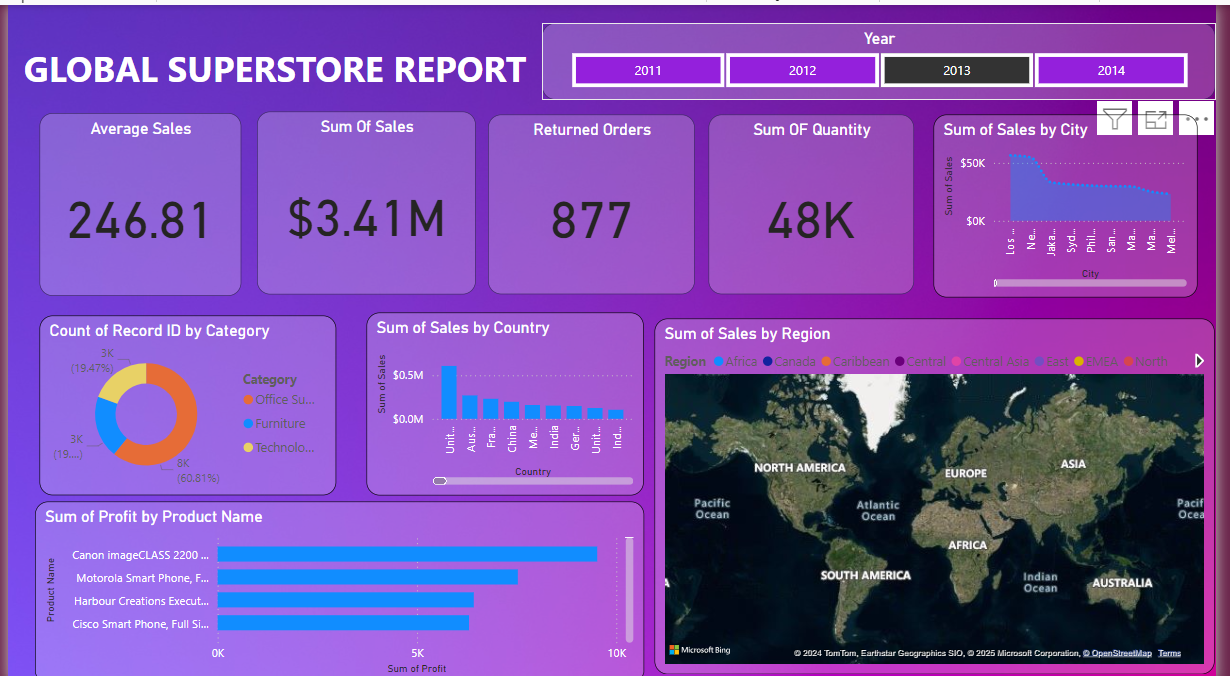

The dashboard page shown, as its layout file describes it:
{"tool":"powerbi","page":{"name":"Page 1","canvas":[1280,720],"ordinal":0},"visuals":[{"type":"card","title":"Sum Of Sales","fields":{"Values":["Sum(Orders.Sales)"]},"box":[264,112.9,232.2,194.1],"z":0},{"type":"columnChart","fields":{"Category":["Orders.Country"],"Y":["Sum(Orders.Sales)"]},"box":[380.2,326.1,294.3,194.1],"z":1000},{"type":"map","fields":{"Series":["Orders.Region"],"Size":["Sum(Orders.Sales)"]},"box":[684.9,331.9,594.3,377.3],"z":2000},{"type":"donutChart","fields":{"Category":["Orders.Category"],"Y":["CountNonNull(Orders.Record ID)"]},"box":[33.4,329.3,314.9,190.9],"z":3000},{"type":"slicer","title":"Year","fields":{"Values":["Orders.Year"]},"box":[566.3,19.1,714.2,81.1],"z":4000},{"type":"card","title":"Returned Orders","fields":{"Values":["CountNonNull(Returns.Return Flag)"]},"box":[509,116.1,219.5,190.9],"z":5000},{"type":"card","title":"Average Sales","fields":{"Values":["Orders.Average Sales"]},"box":[34,115,213.7,194.3],"z":6000},{"type":"barChart","fields":{"Category":["Orders.Product Name"],"Y":["Sum(Orders.Profit)"]},"box":[28.6,526.5,645.8,194.1],"z":7000},{"type":"card","title":"Sum OF Quantity","fields":{"Values":["Sum(Orders.Quantity)"]},"box":[742.8,116.1,217.9,190.9],"z":8000},{"type":"areaChart","fields":{"Category":["Orders.City"],"Y":["Sum(Orders.Sales)"]},"box":[981.4,116.1,279.9,194.1],"z":9000},{"type":"textbox","box":[0,0,566.3,132],"z":10000}]}

Visuals, with their boxes in screenshot pixels (x1, y1, x2, y2), scaled from the page's 1280x720 canvas onto the 1230x676 screenshot:
"Sum Of Sales" card: region(254, 106, 477, 288)
columnChart - Orders.Country x Sum(Orders.Sales): region(365, 306, 648, 488)
map - Orders.Region x Sum(Orders.Sales): region(658, 312, 1229, 666)
donutChart - Orders.Category x CountNonNull(Orders.Record ID): region(32, 309, 335, 488)
"Year" slicer: region(544, 18, 1229, 94)
"Returned Orders" card: region(489, 109, 700, 288)
"Average Sales" card: region(33, 108, 238, 290)
barChart - Orders.Product Name x Sum(Orders.Profit): region(27, 494, 648, 675)
"Sum OF Quantity" card: region(714, 109, 923, 288)
areaChart - Orders.City x Sum(Orders.Sales): region(943, 109, 1212, 291)
textbox: region(0, 0, 544, 124)
